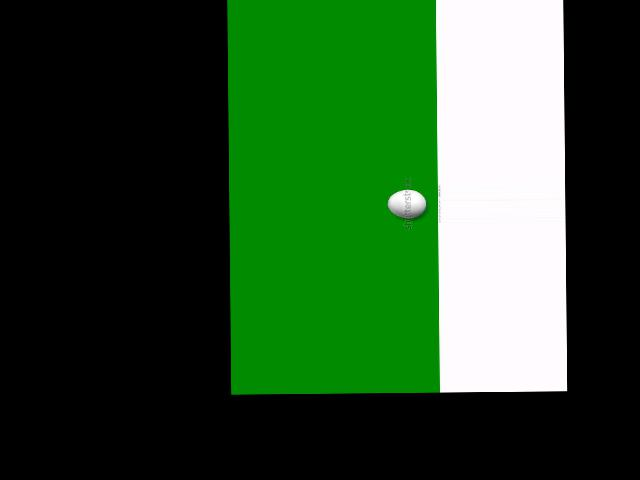egg: (387, 189, 426, 218)
